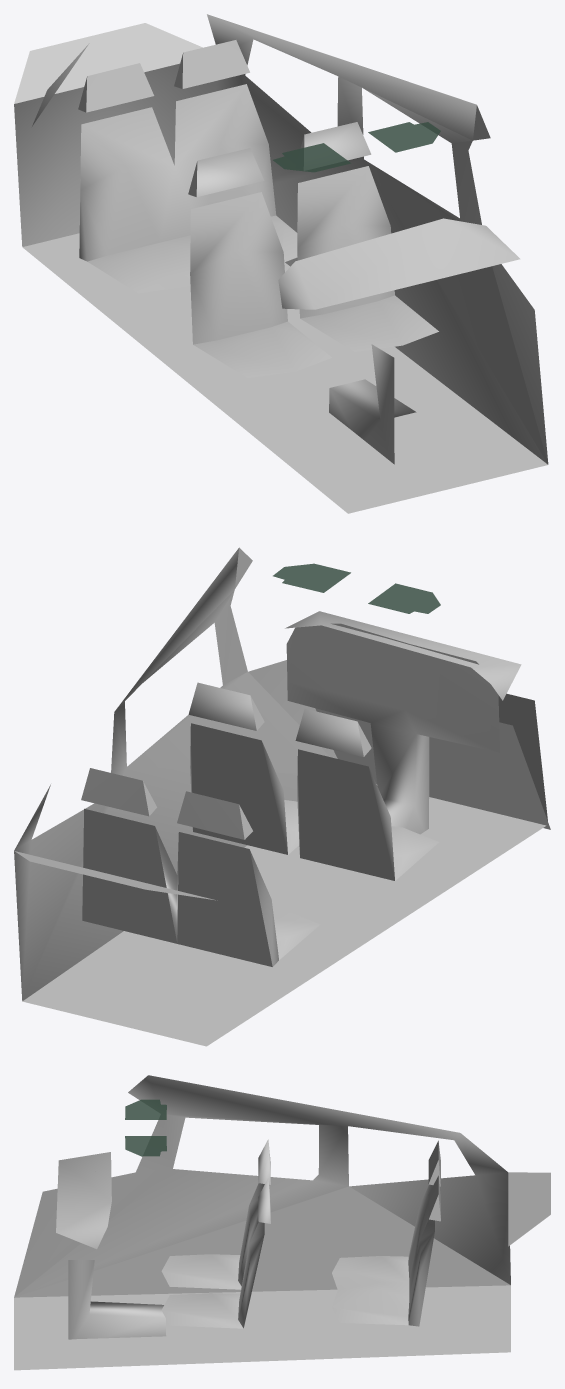
The model's file is Cessna172SP_AS1000_interior_LOD05.gltf.
3 views of the same model, one above another, from view 1: azimuth 30°, elevation 25°; view 2: azimuth 150°, elevation 25°; view 3: azimuth 270°, elevation 25° (orthographic). The views are drawn at different scales.
Parts seen in each view (by area): view 1: Shell, SunVisor; view 2: Shell, SunVisor; view 3: Shell, SunVisor.
Part boxes in pixels (bbox=[...]): Shell: bbox=[14, 14, 548, 513]; SunVisor: bbox=[273, 122, 440, 172]; Shell: bbox=[14, 547, 550, 1046]; SunVisor: bbox=[273, 563, 440, 613]; Shell: bbox=[14, 1075, 550, 1370]; SunVisor: bbox=[125, 1099, 166, 1156].
Bounding box in the file's own units: 1.05 × 1.27 × 2.76.
